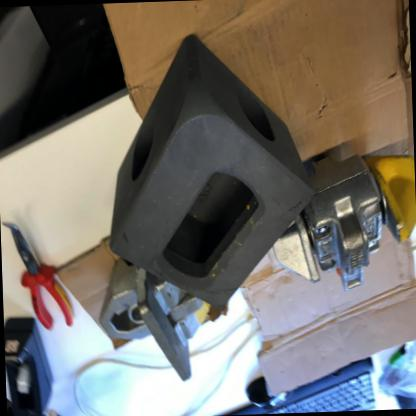CornerCasting: (103, 26, 312, 309)
Twistlock: (267, 146, 415, 295), (95, 248, 212, 388)
